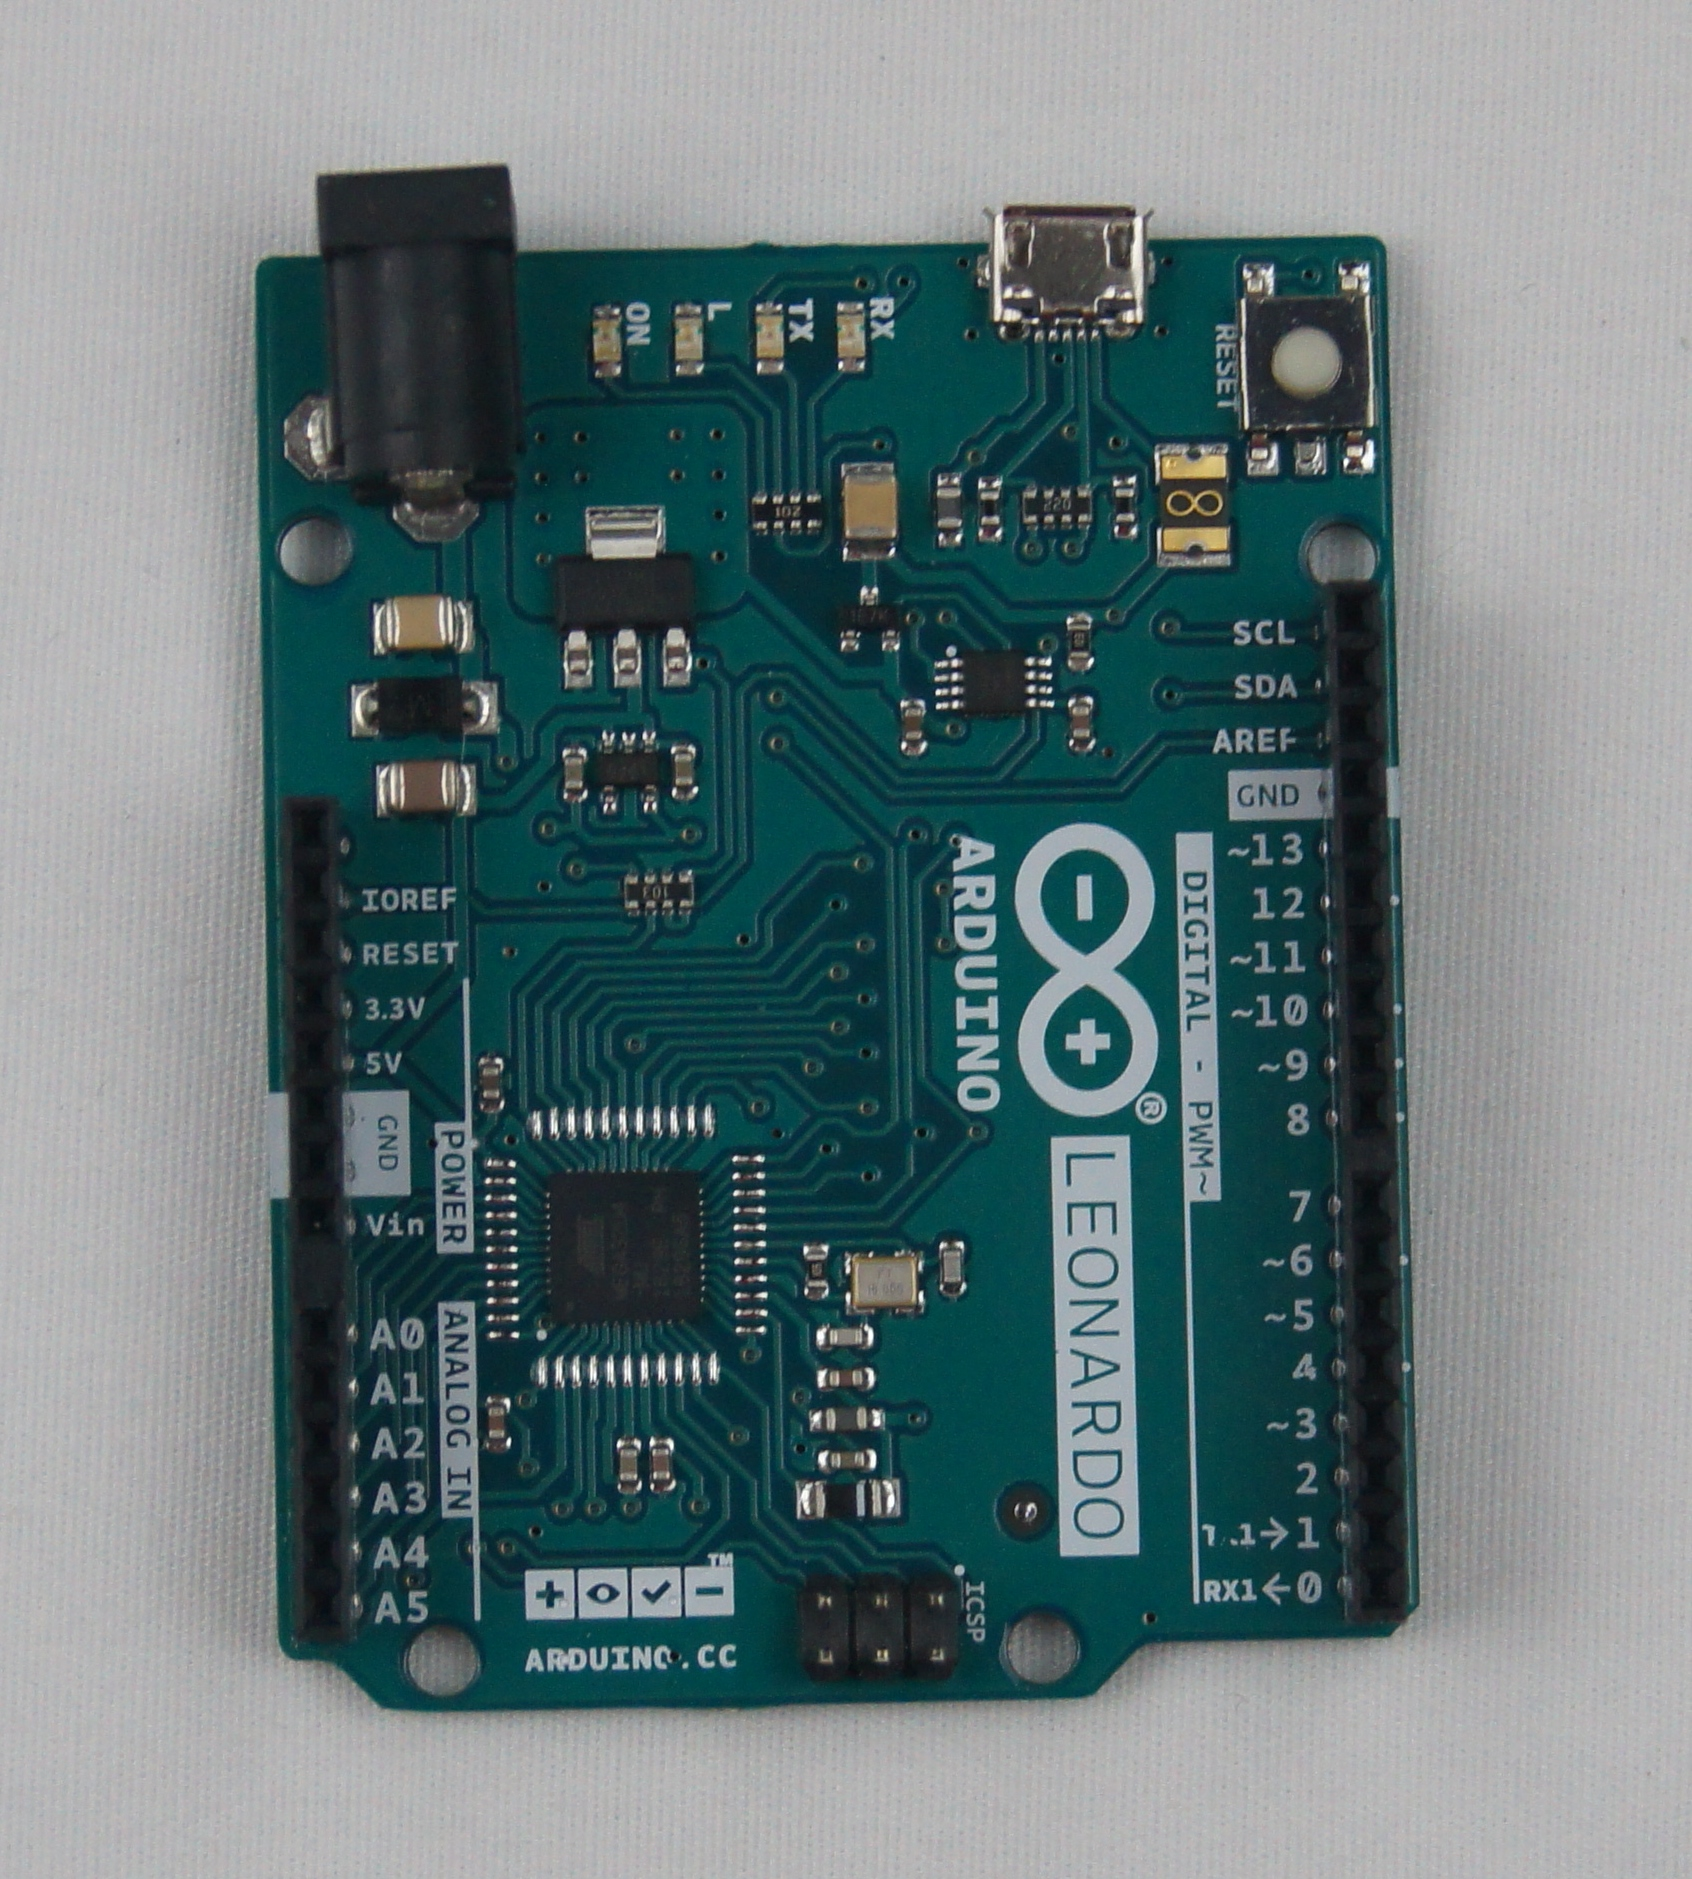kondensator: (359, 583, 479, 660), (371, 759, 482, 816), (835, 459, 898, 555), (800, 1401, 893, 1435), (929, 472, 965, 545), (472, 1051, 514, 1113), (550, 740, 588, 806), (813, 1445, 893, 1474), (808, 1365, 882, 1394), (1062, 695, 1098, 753), (482, 1389, 514, 1451), (810, 1326, 882, 1353), (893, 699, 929, 753), (668, 743, 702, 797), (937, 1237, 968, 1295), (612, 1433, 640, 1492), (647, 1435, 675, 1490)
